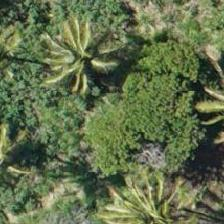coconut_tree: (39, 14, 129, 104), (98, 173, 188, 223)
